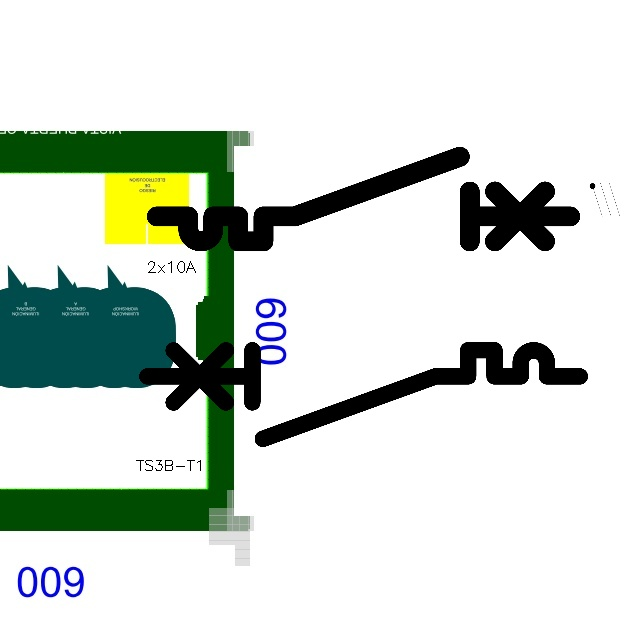interruptor_termomagnetico: (136, 339, 591, 450), (146, 146, 581, 252)
